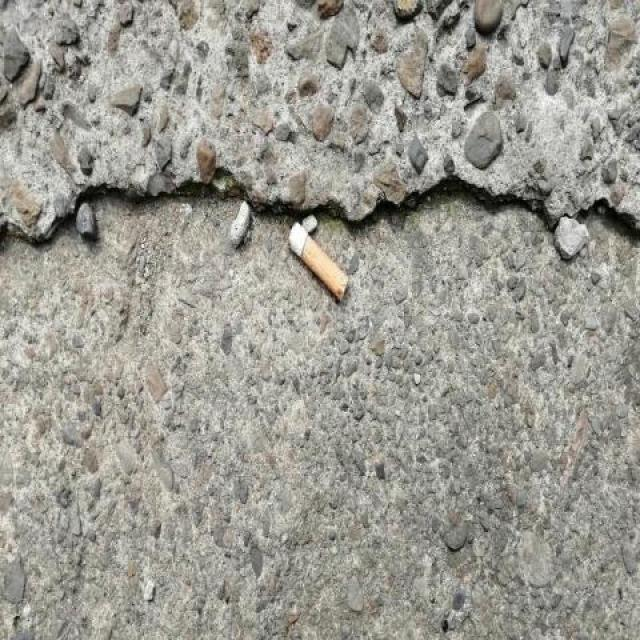non-organic waste: (283, 217, 353, 306)
